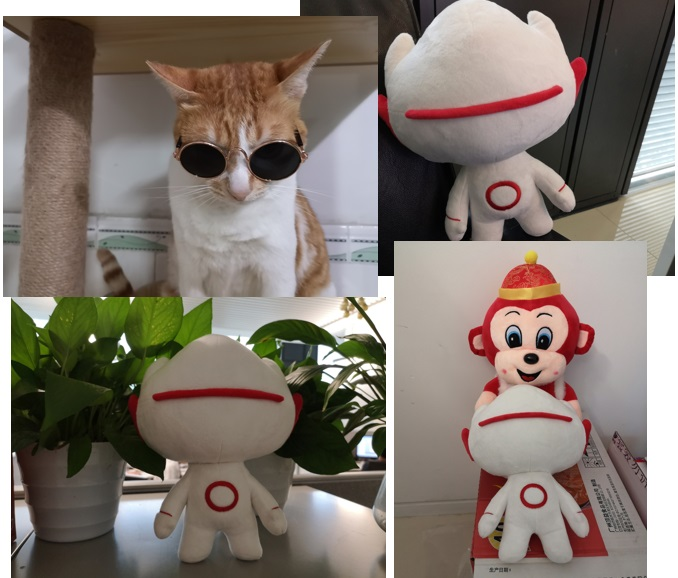yunbao: (409, 10, 623, 240), (122, 316, 317, 558), (450, 384, 609, 563)
